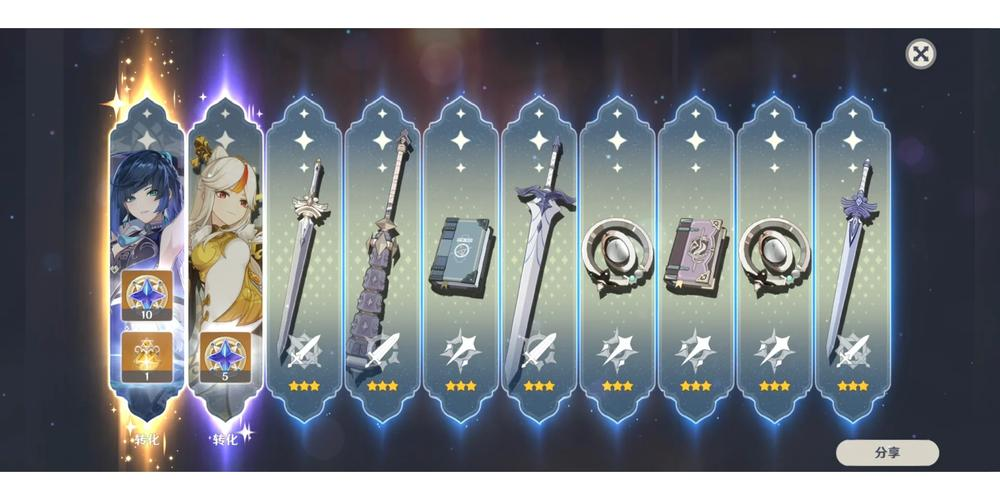夜兰: (109, 114, 184, 272)
